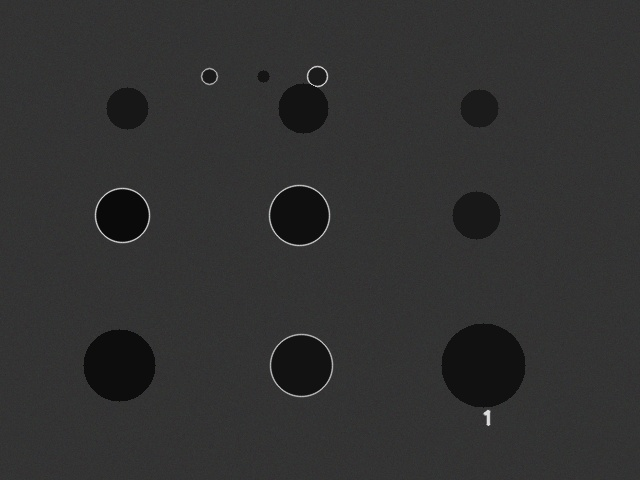hole: (441, 323, 525, 407), (83, 329, 155, 401), (270, 334, 332, 396), (269, 185, 329, 245), (95, 188, 149, 242), (278, 83, 328, 133), (452, 191, 500, 239), (106, 87, 148, 129), (460, 89, 498, 127), (307, 66, 327, 86), (201, 68, 217, 84), (257, 70, 269, 82)
